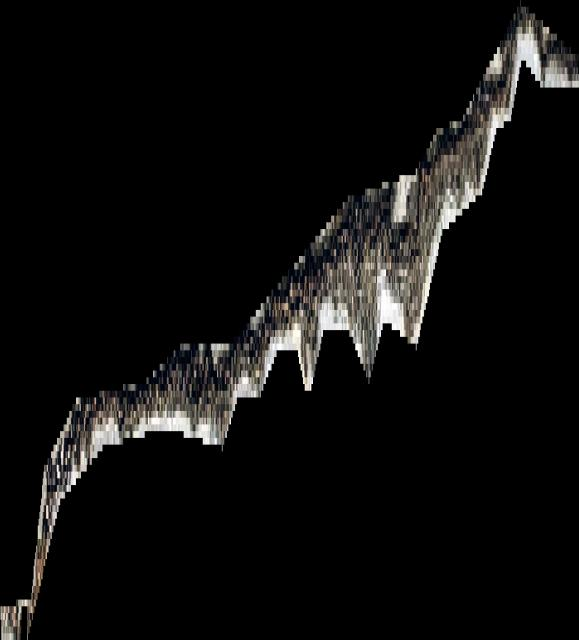Crack: (1, 0, 578, 640)
